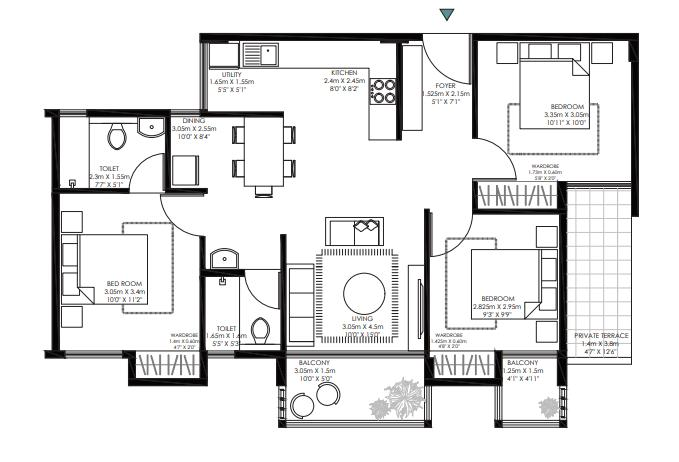Balcony: (285, 358, 425, 421), (500, 359, 560, 423)
Bed: (517, 37, 590, 128), (58, 232, 146, 305), (472, 250, 559, 321)
Bedroom: (477, 41, 633, 183), (63, 187, 195, 349), (431, 215, 557, 351)
Dining Room: (175, 119, 295, 201)
Dining table: (227, 118, 301, 204)
Foyer: (423, 38, 473, 214)
Kitchen: (282, 46, 395, 138)
Living Room: (289, 136, 421, 348)
Sofa: (287, 265, 317, 343), (322, 216, 384, 245)
Terrace: (567, 185, 630, 360)
Wardrobe: (477, 184, 556, 210), (134, 352, 200, 383), (434, 354, 496, 377)
commode: (110, 122, 125, 152), (252, 319, 269, 343)
door: (423, 207, 474, 264), (419, 32, 469, 82), (161, 196, 205, 240), (474, 137, 514, 181), (241, 271, 281, 308), (129, 155, 162, 195)
sink: (243, 44, 277, 67), (140, 119, 164, 138), (211, 251, 239, 267)
stove: (368, 78, 398, 104)
toilet: (63, 117, 161, 189), (206, 275, 280, 351)
tv: (407, 267, 430, 347)
utility: (204, 44, 283, 114)
